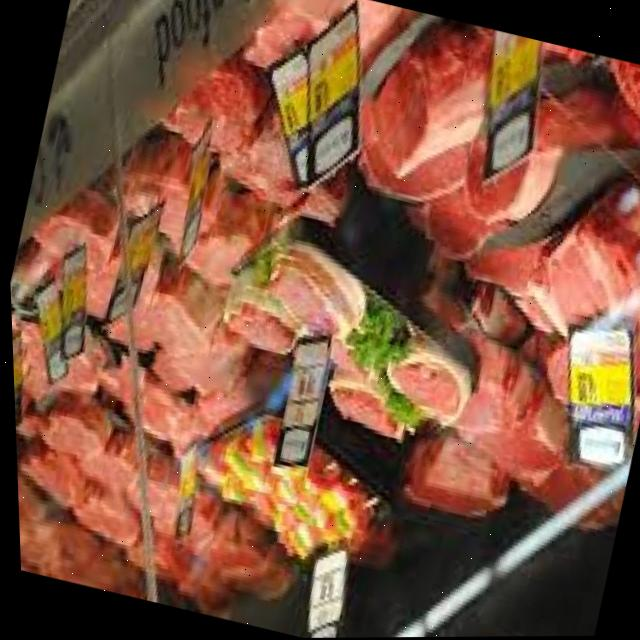Wet: (0, 0, 640, 640), (0, 0, 436, 635), (326, 4, 640, 347), (370, 409, 528, 546)
